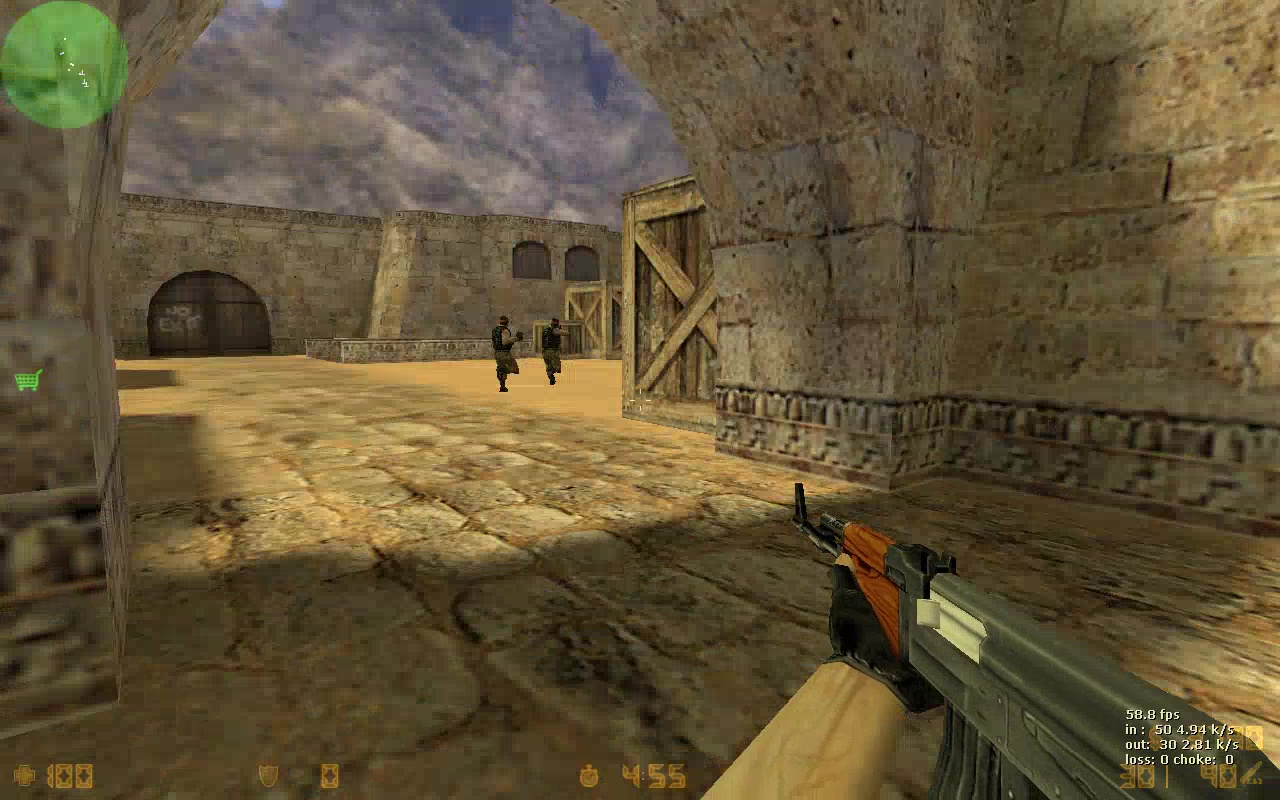terr1: (491, 314, 528, 391), (541, 317, 571, 386)
